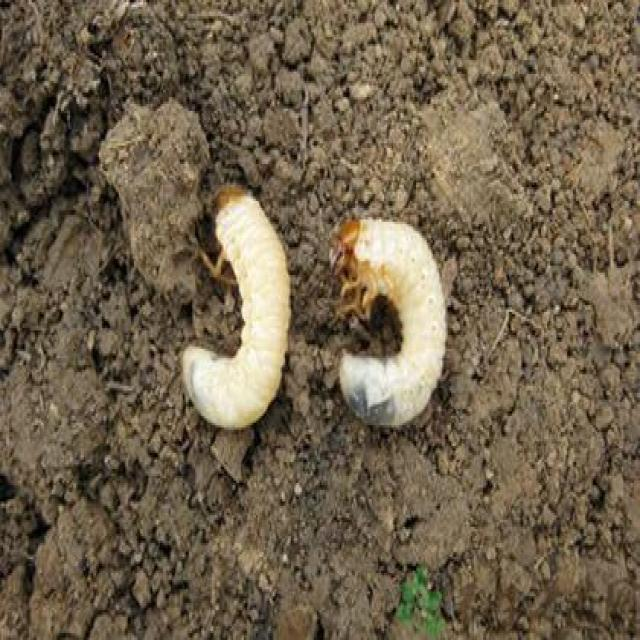Grub-Adult-: (324, 201, 466, 459), (158, 156, 286, 442)
